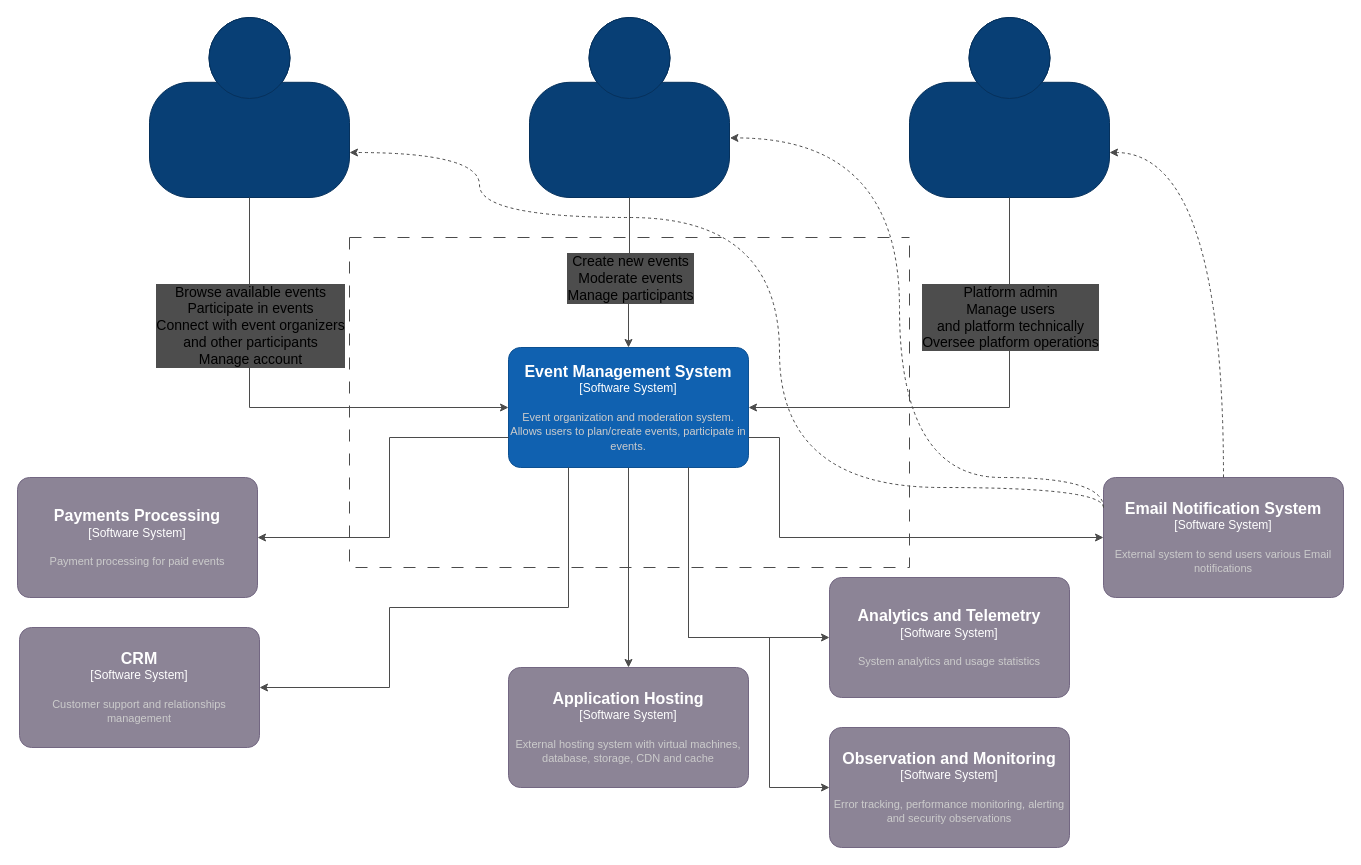
Some shapes in this 1361 by 865 pixel diagram are drawn without their labels. Here are the shapes that lost their labels. From the top down, the centre of each, then its label:
At (x=249, y=107): "Participant [Person] Users who join and attend events".
At (x=629, y=107): "Organizer [Person] Users who organize and moderate events".
At (x=1009, y=107): "Admin [Person] Global Admin users who manage the application system".
